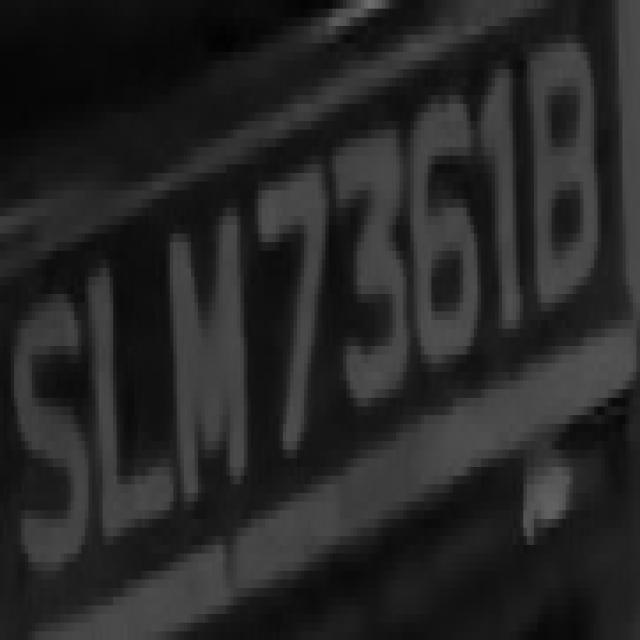1: (481, 61, 523, 363)
3: (322, 104, 410, 450)
6: (396, 95, 474, 407)
7: (247, 138, 336, 502)
B: (516, 18, 608, 338)
L: (74, 216, 174, 554)
M: (156, 190, 251, 545)
S: (11, 268, 92, 623)
